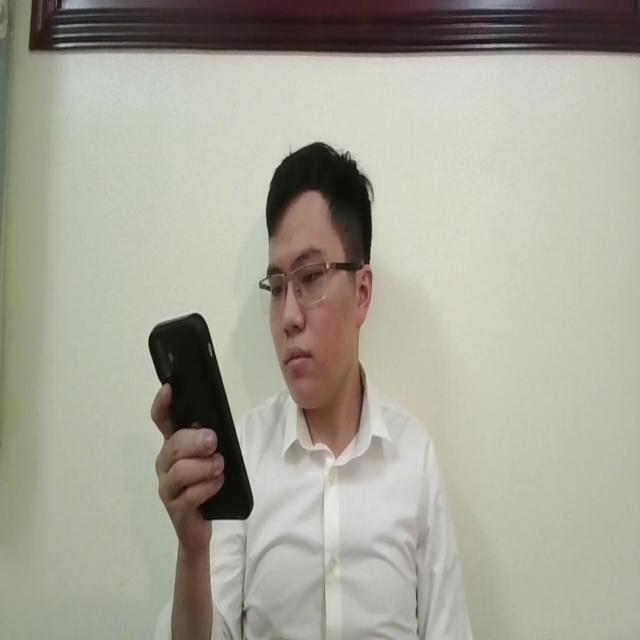phone: (144, 309, 258, 529)
student: (135, 138, 473, 640)
